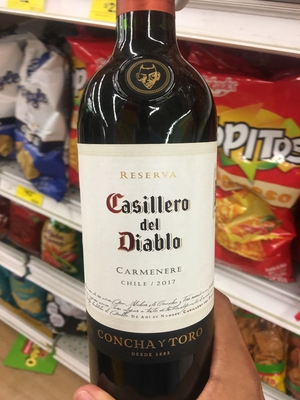casillero del diablo carmenere: (73, 22, 225, 400)
